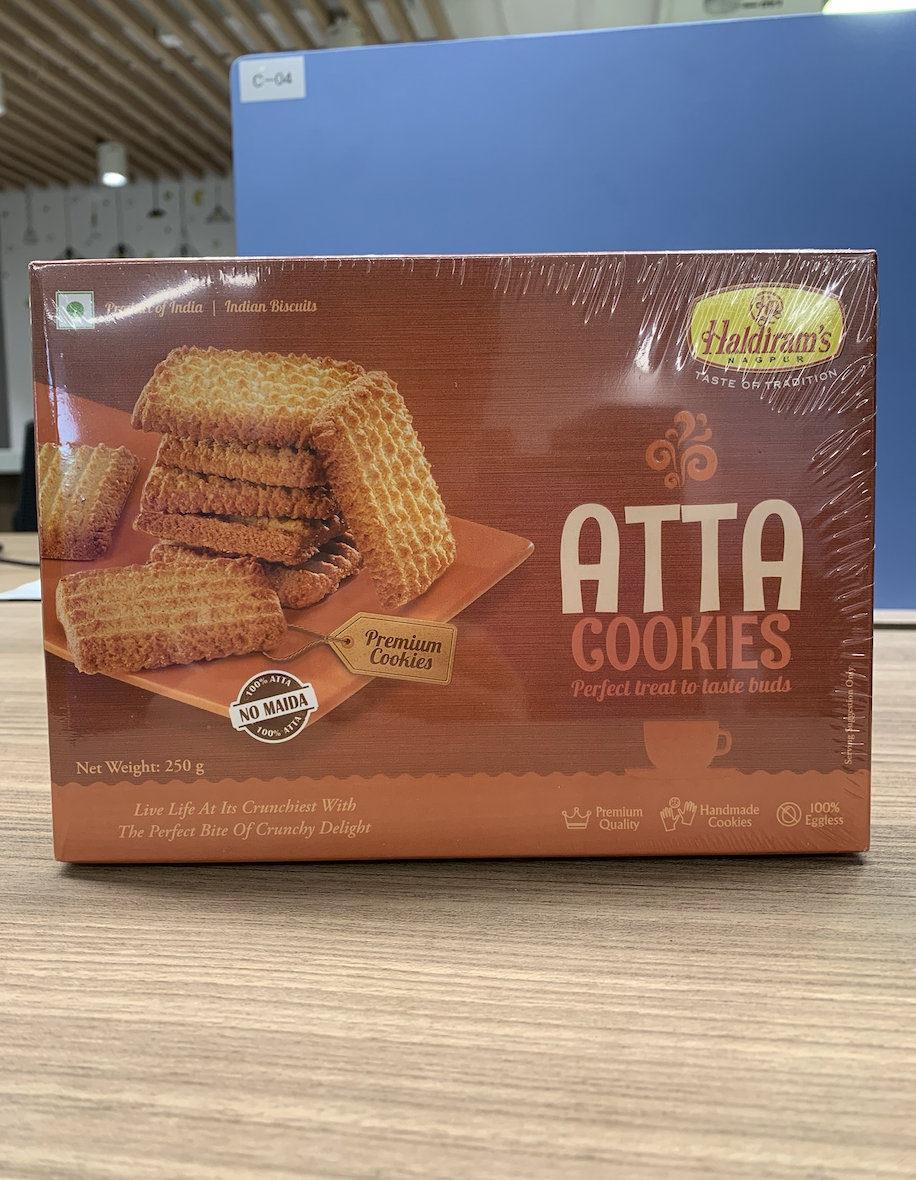cookies_200g-299g: (40, 262, 868, 844)
